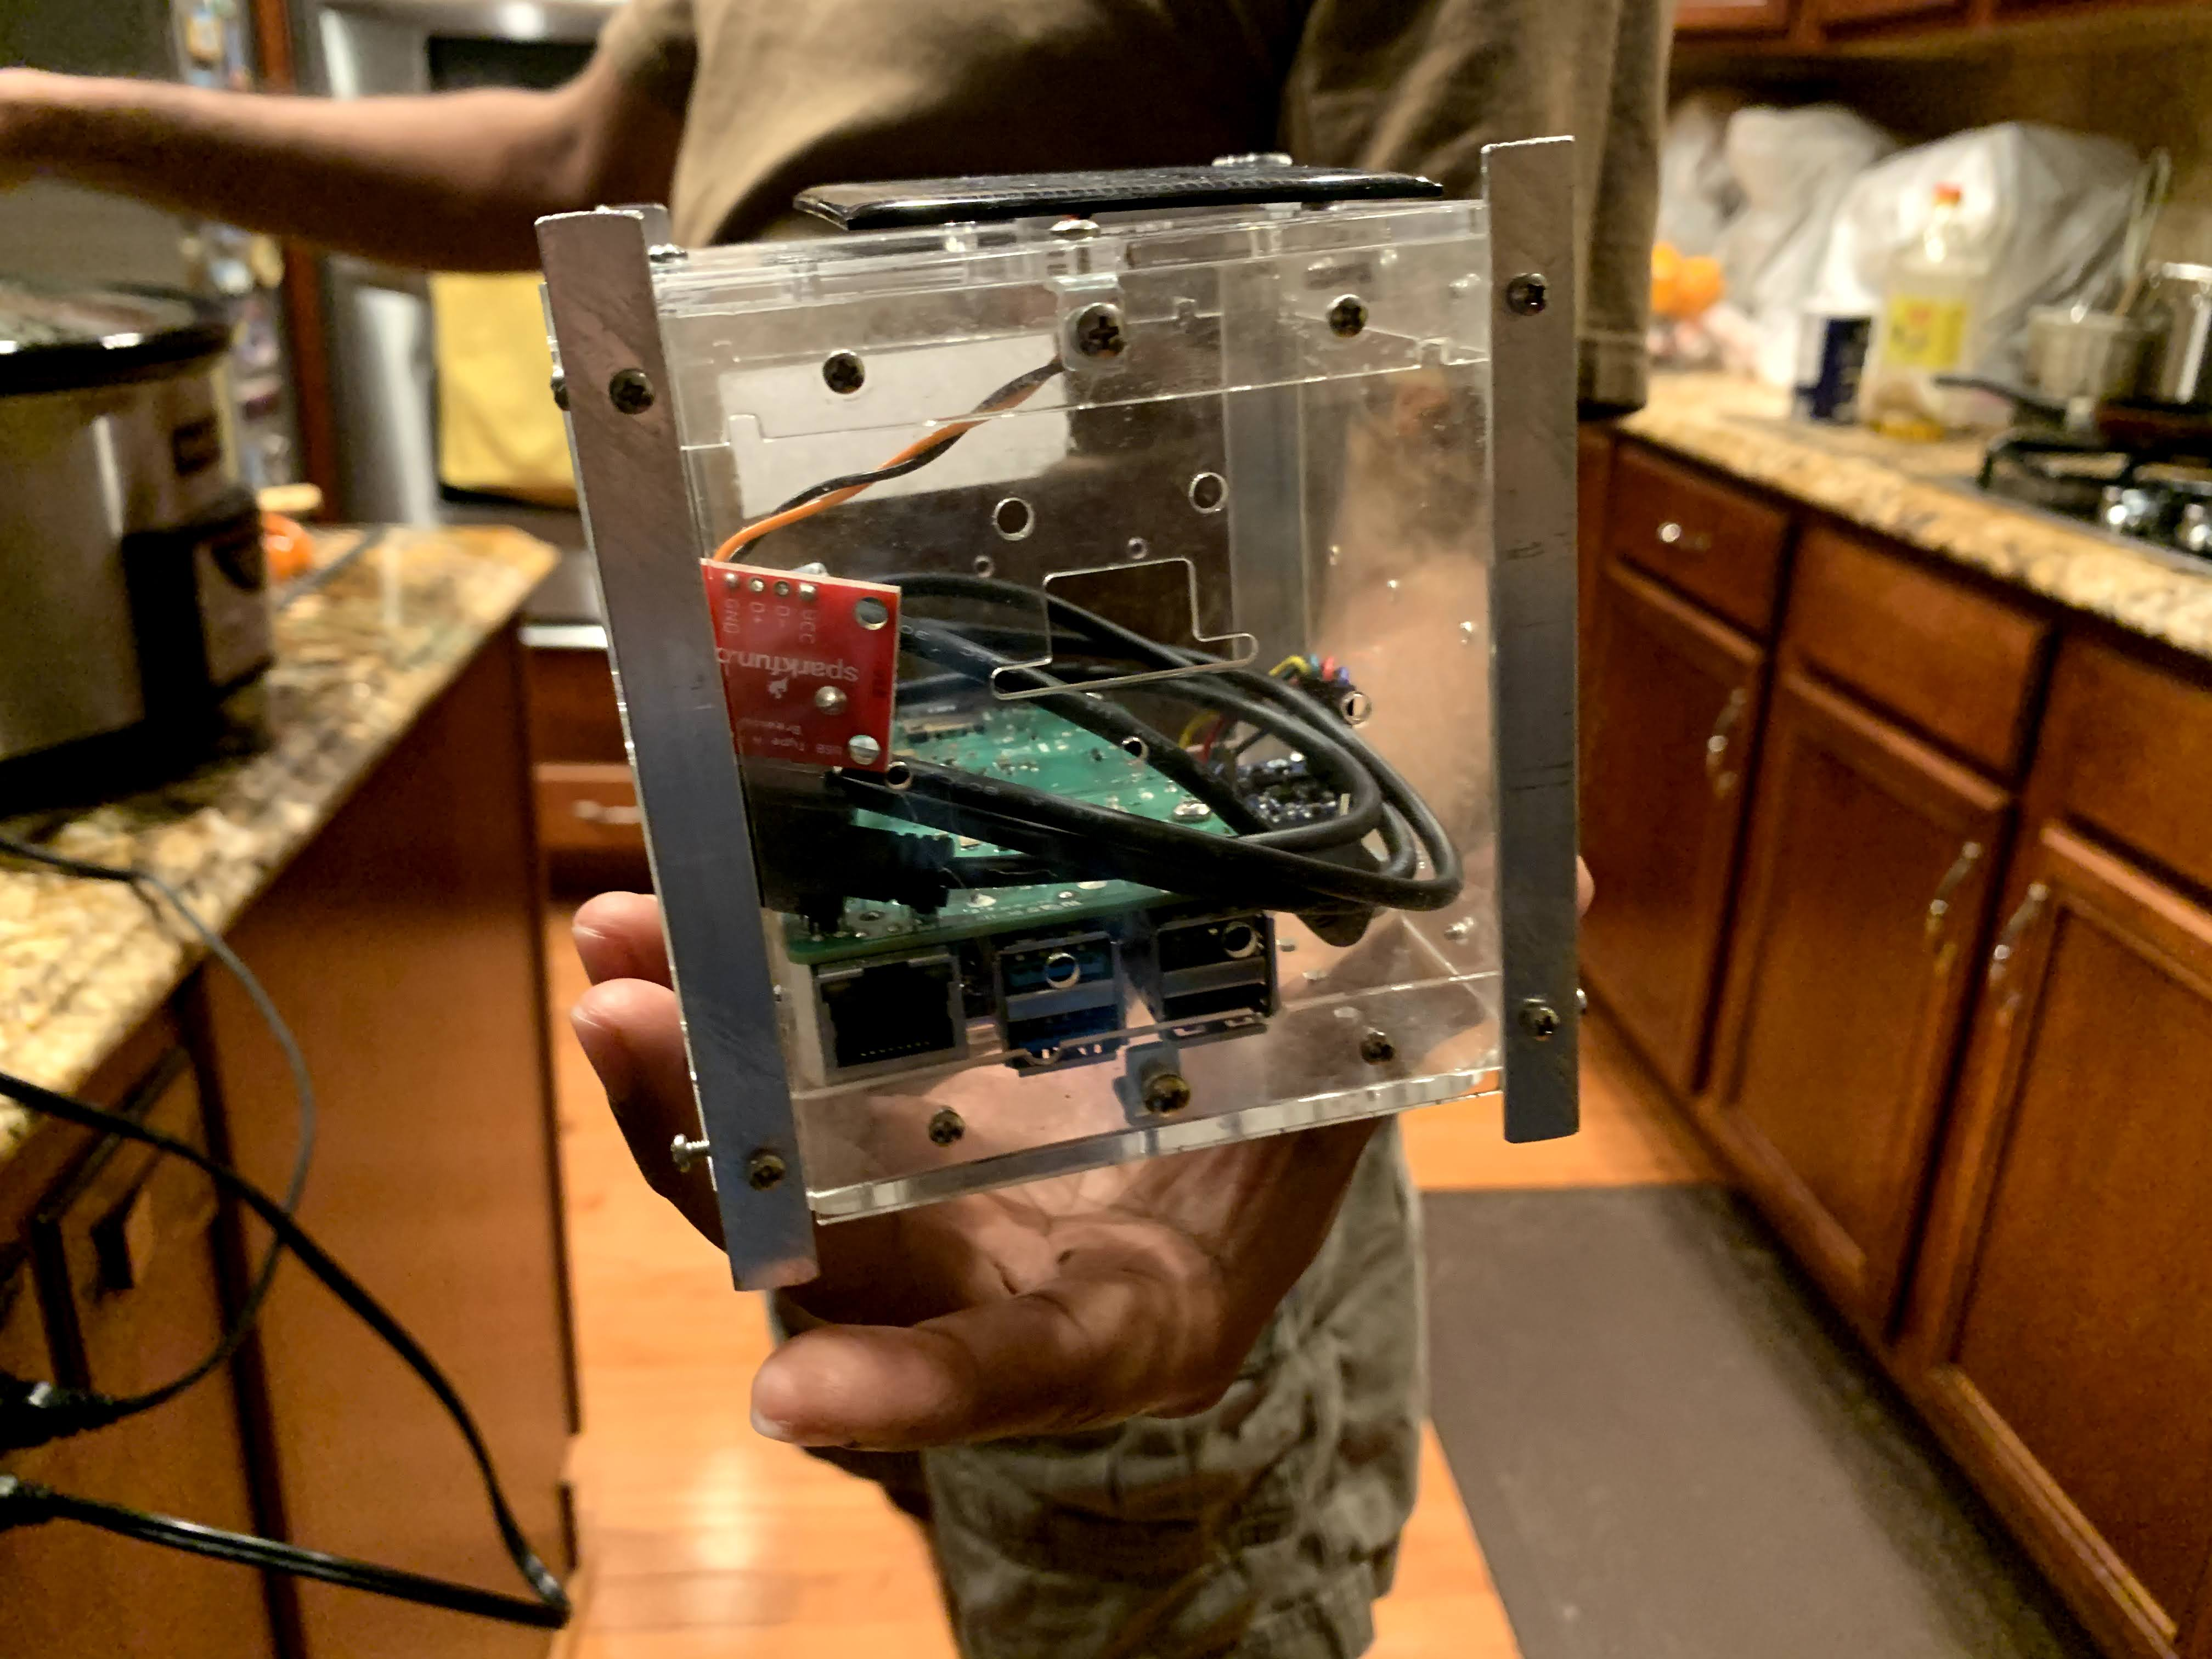Space-debris-cubesat: (531, 113, 1669, 1310)
